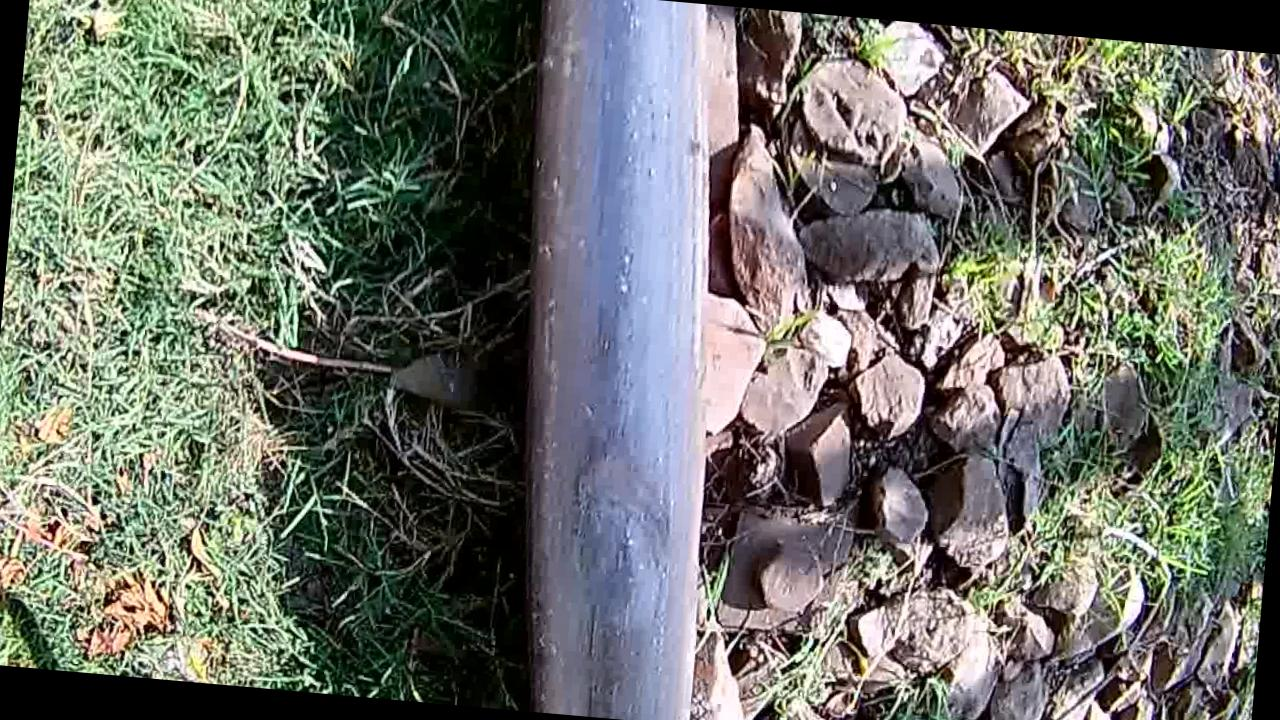bolt_missing: (512, 395, 715, 678)
